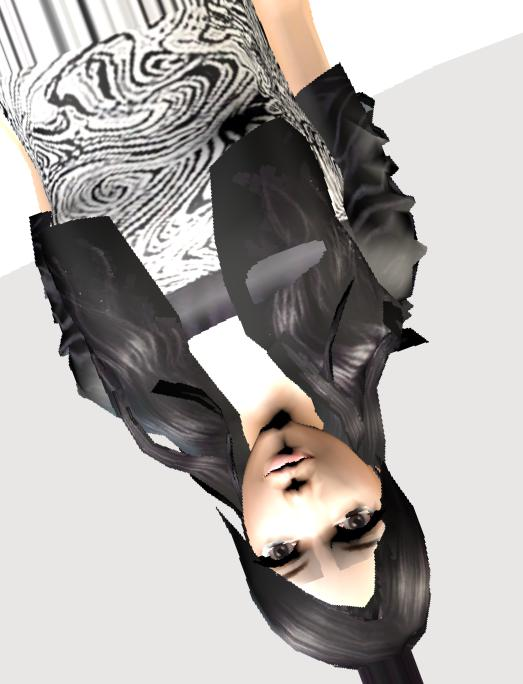clip: (242, 249, 332, 294)
